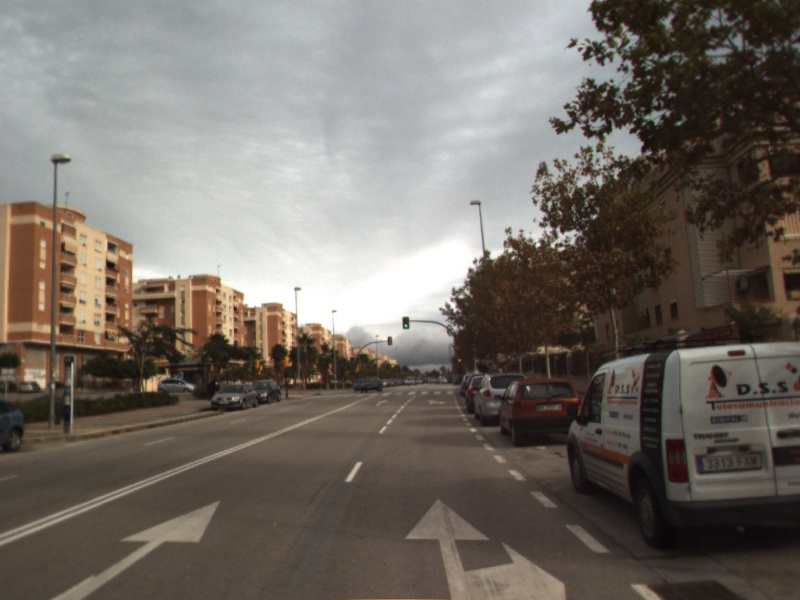STRAIGHT: (43, 498, 222, 600), (373, 398, 391, 408)
STRAIGHT_RIGHT: (401, 496, 569, 600), (424, 397, 448, 407)
